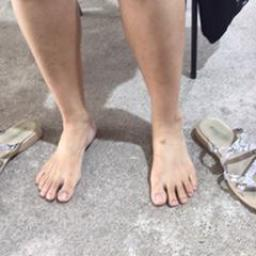Front View -Both Feet-: (31, 78, 203, 217)
